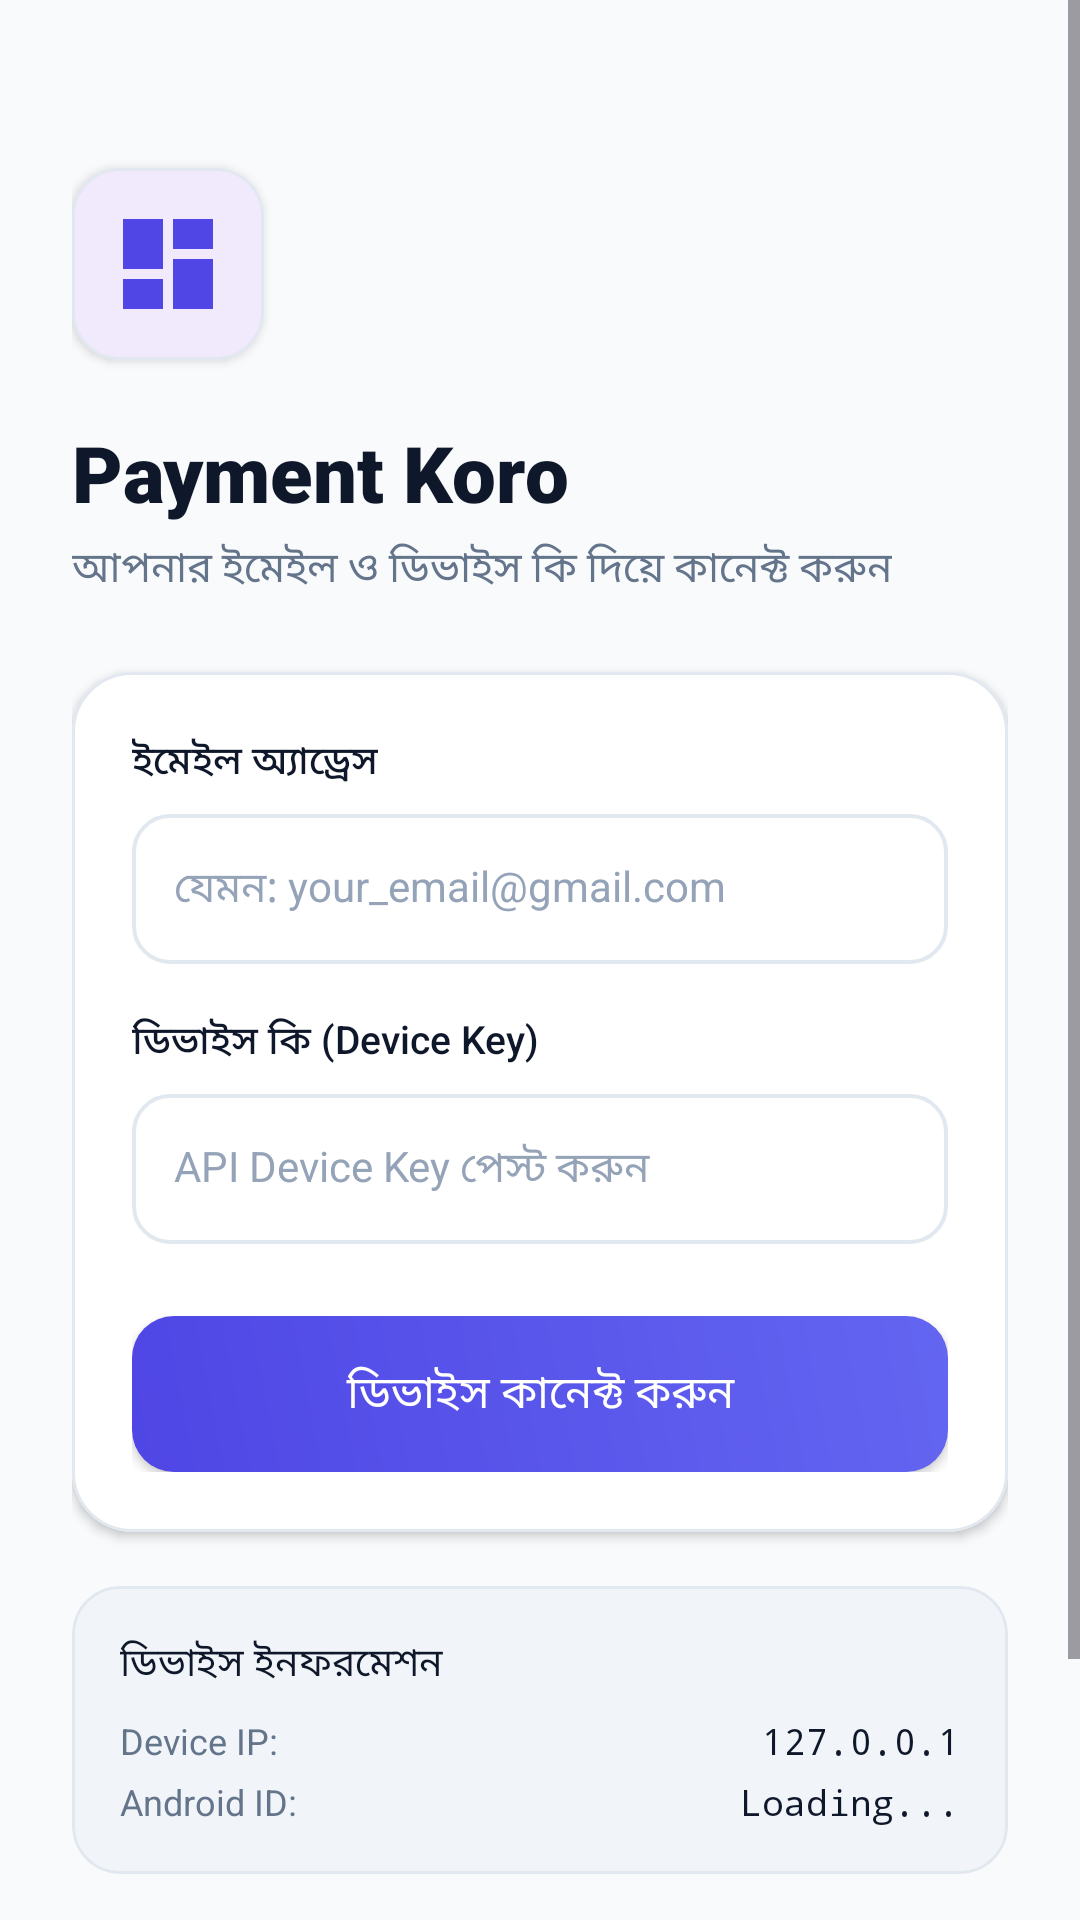

Icons on this 1080 x 1920 Android screen, each with the point to tap as (x=x, y=y):
dashboard: (x=168, y=264)
